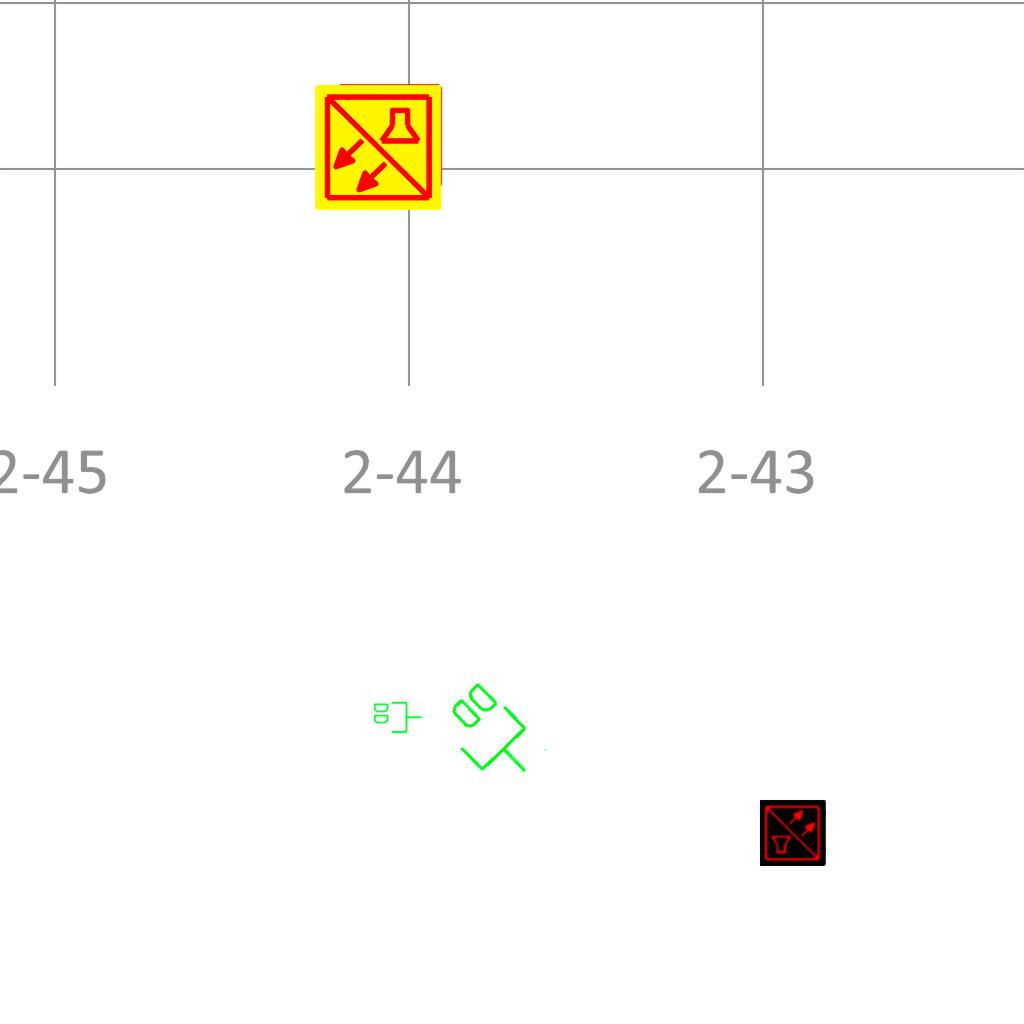Datenanschluss_zweifach: (430, 674, 553, 797), (372, 700, 423, 734)
OKW_Multisensormelder_(Kombination_optischer_Rauch-Kahlenmonoxid_Waerme-Melder): (312, 81, 444, 213), (760, 800, 826, 866)
